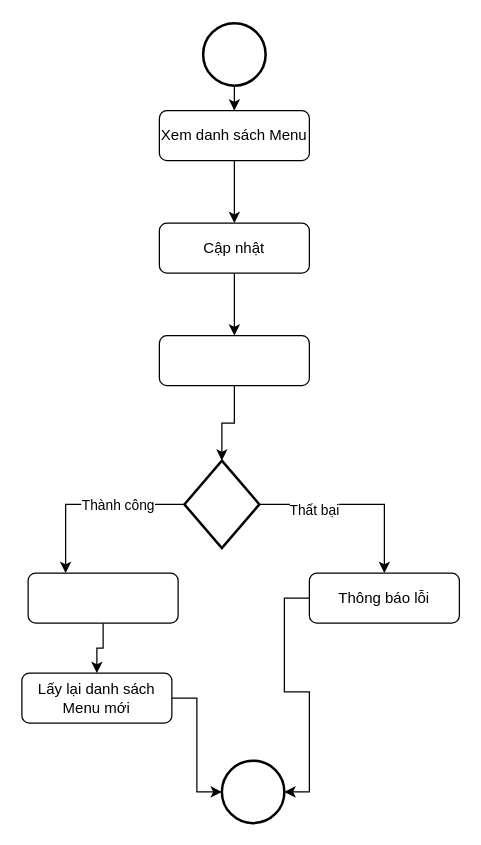
This 481x845 diagram has some shape labels left out. Here are the shapes that lost their labels. From the top down, the box of each, then its label:
(158, 334, 309, 386): Nhập dữ liệu
(27, 572, 178, 623): Thông báo thành công
